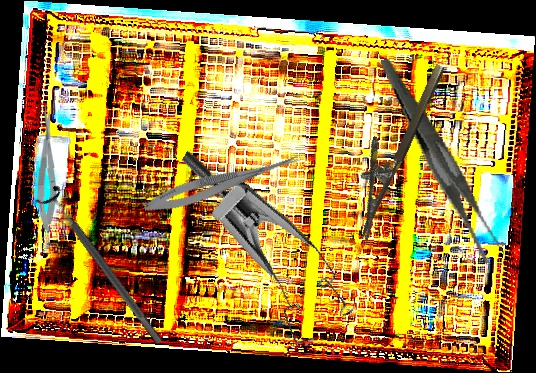Dressing Forceps: (380, 44, 506, 276)
Fixation Ring: (34, 183, 172, 352)
Micro Scissor: (140, 143, 305, 220), (35, 106, 60, 230)
Needle Holder: (332, 52, 448, 242)
Speculum: (131, 148, 381, 360)
